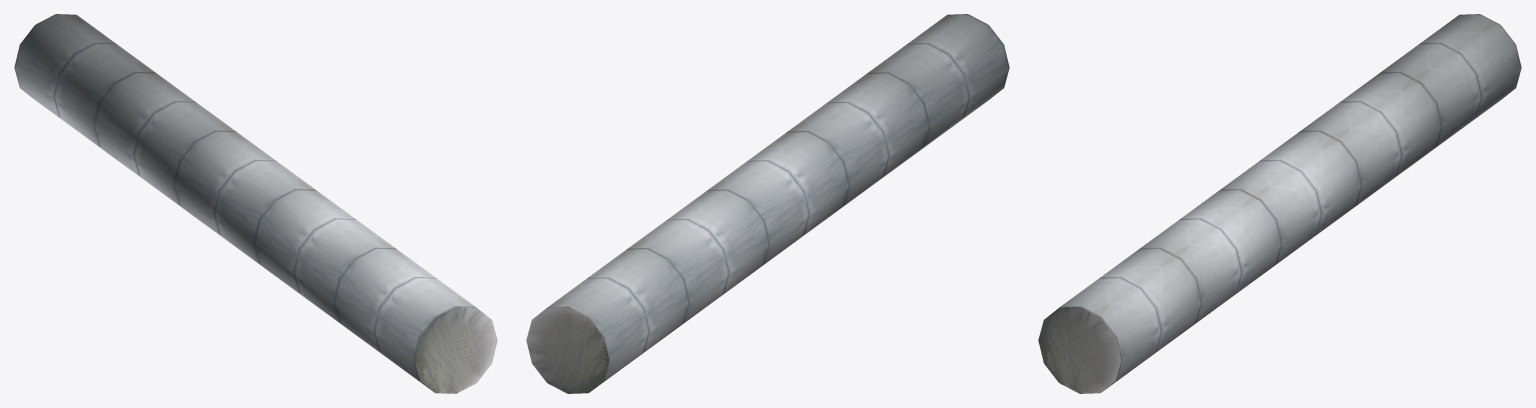
The model's file is hay-bale-plastic-1x10-cbj_LOD01.gltf.
3 views of the same model, side by side, from view 1: azimuth 30°, elevation 25°; view 2: azimuth 150°, elevation 25°; view 3: azimuth 330°, elevation 25° (orthographic).
Visible parts, largest first — view 1: Cube.001; view 2: Cube.001; view 3: Cube.001.
Part boxes in pixels (box(x1,y1,x2,y2)): Cube.001: box(14, 14, 497, 393); Cube.001: box(526, 14, 1009, 393); Cube.001: box(1038, 14, 1521, 393).
Size of the model in its own units: 1.8 by 1.8 by 15.
